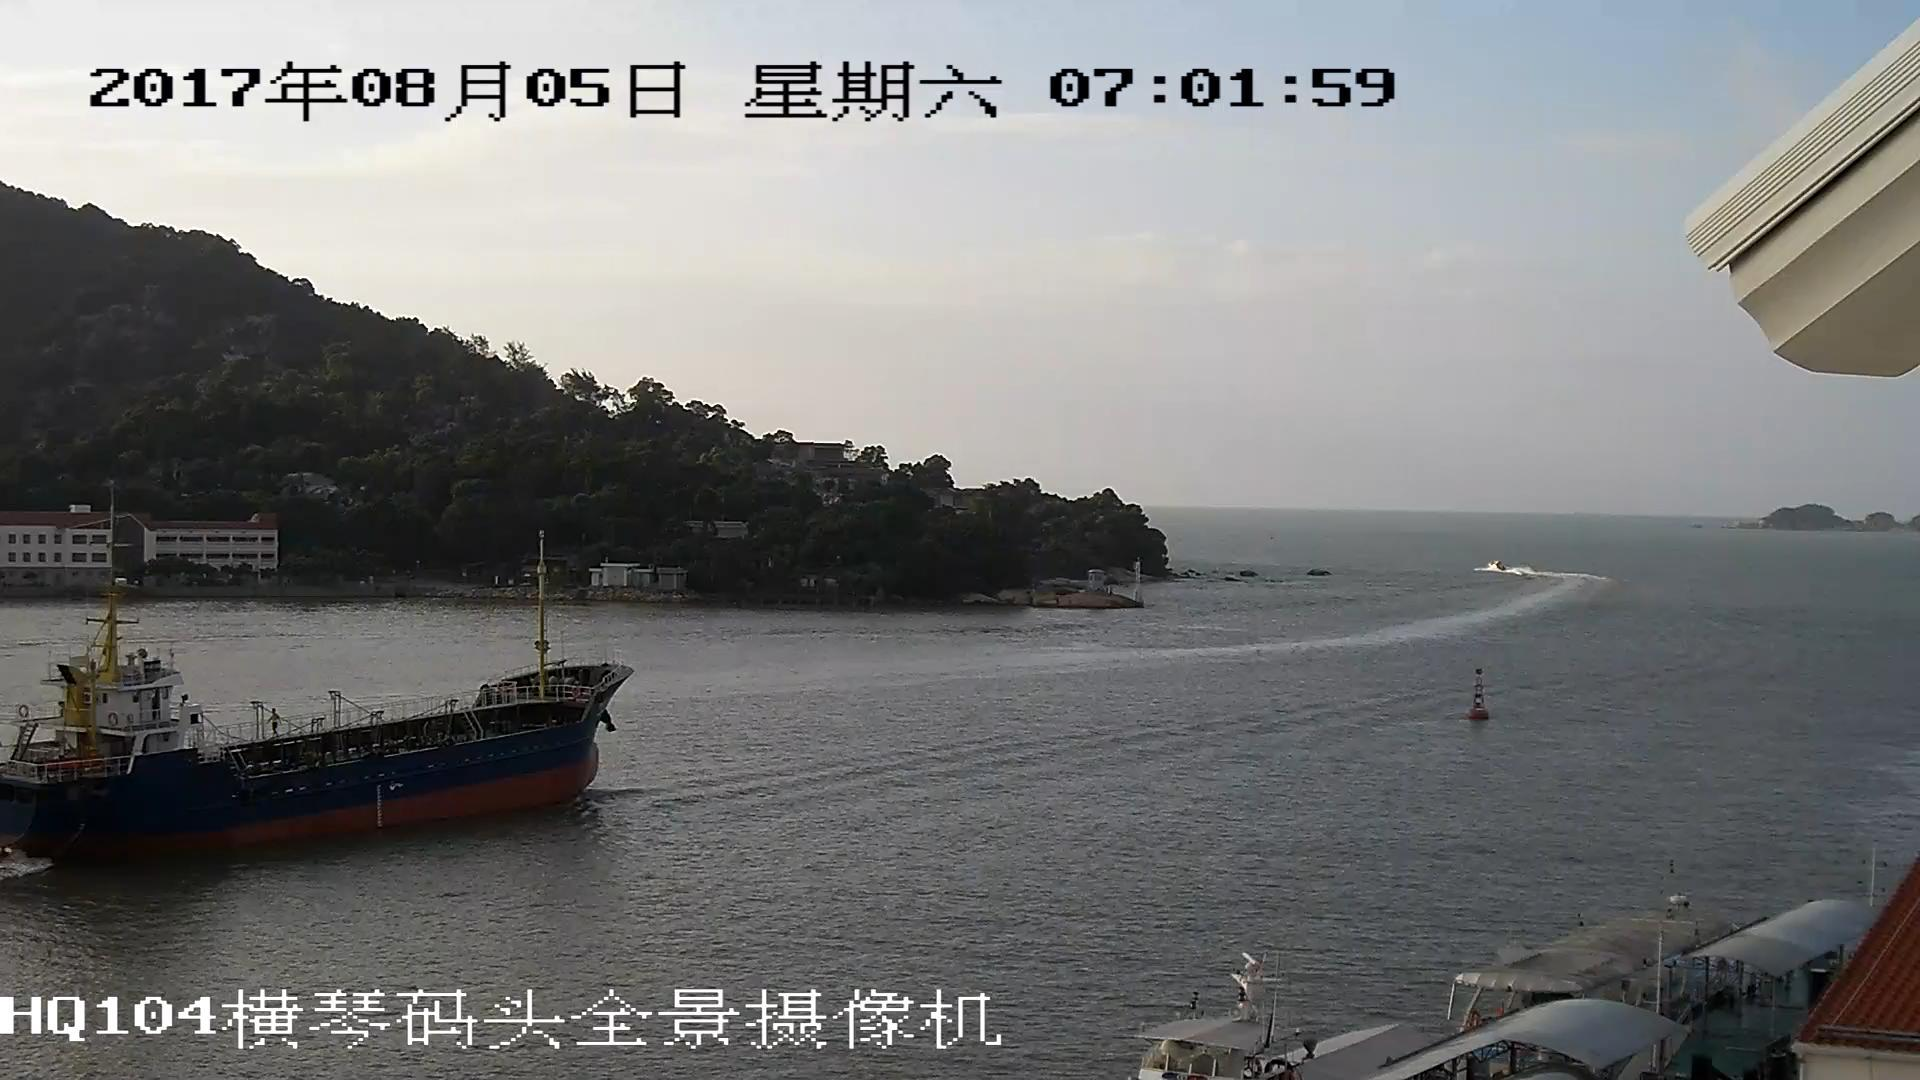Ship: (3, 535, 646, 866)
